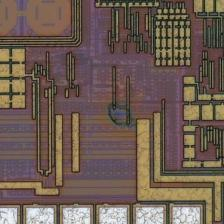COATING BAD: (102, 97, 146, 134)
